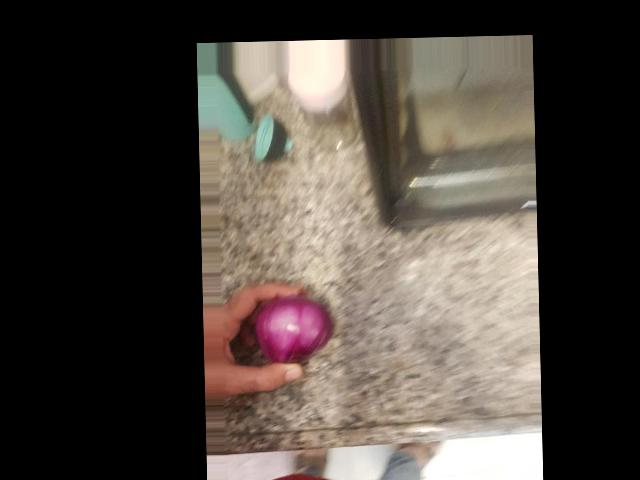onion: (444, 265, 520, 356)
